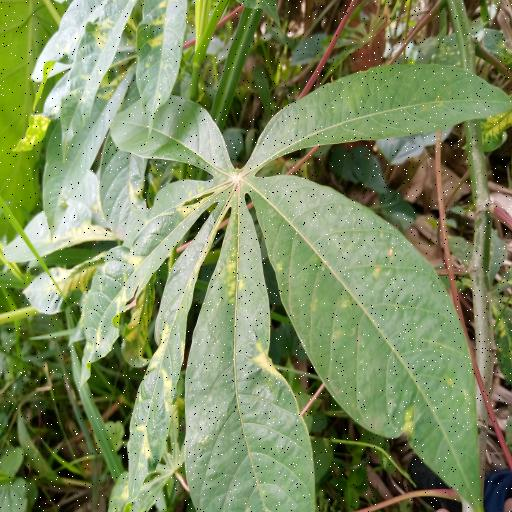Cassava_Mosaic: (76, 62, 512, 512)
